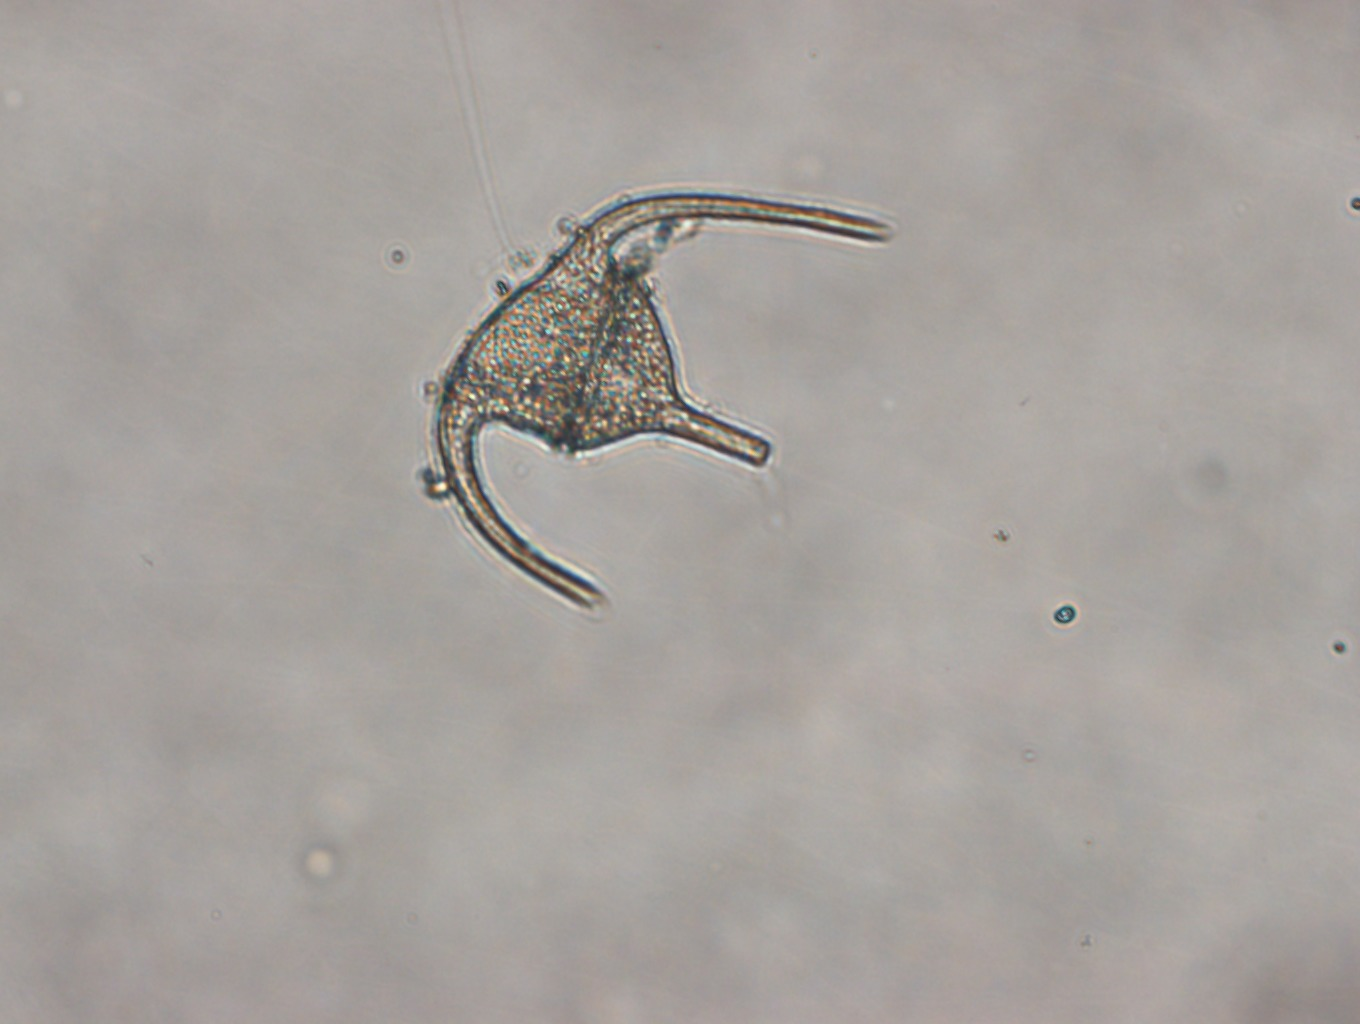ceratium tripos: (428, 184, 894, 611)
